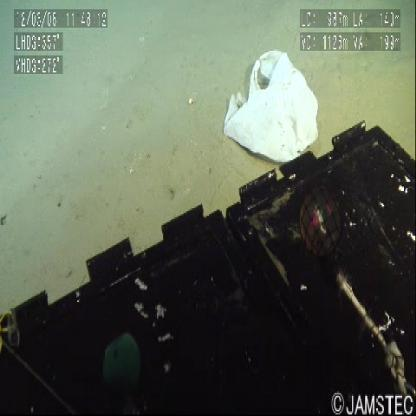Rác: (224, 51, 320, 159)
